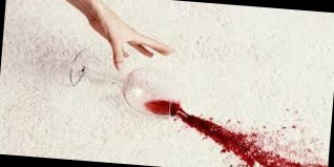wine: (153, 95, 333, 167)
